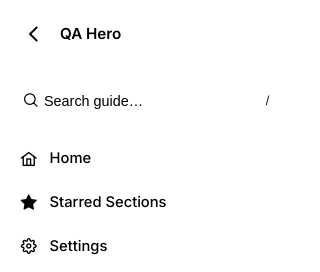
Test: AppDrawer › desktop: collapses drawer when toggle clicked, hiding sections
Click the button with class "drawer-toggle" at (34, 34), box [16,16,52,52]
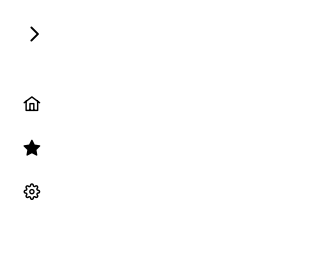
Now the element with class "drawer-collapsed" is shown, box [16,16,52,200]
